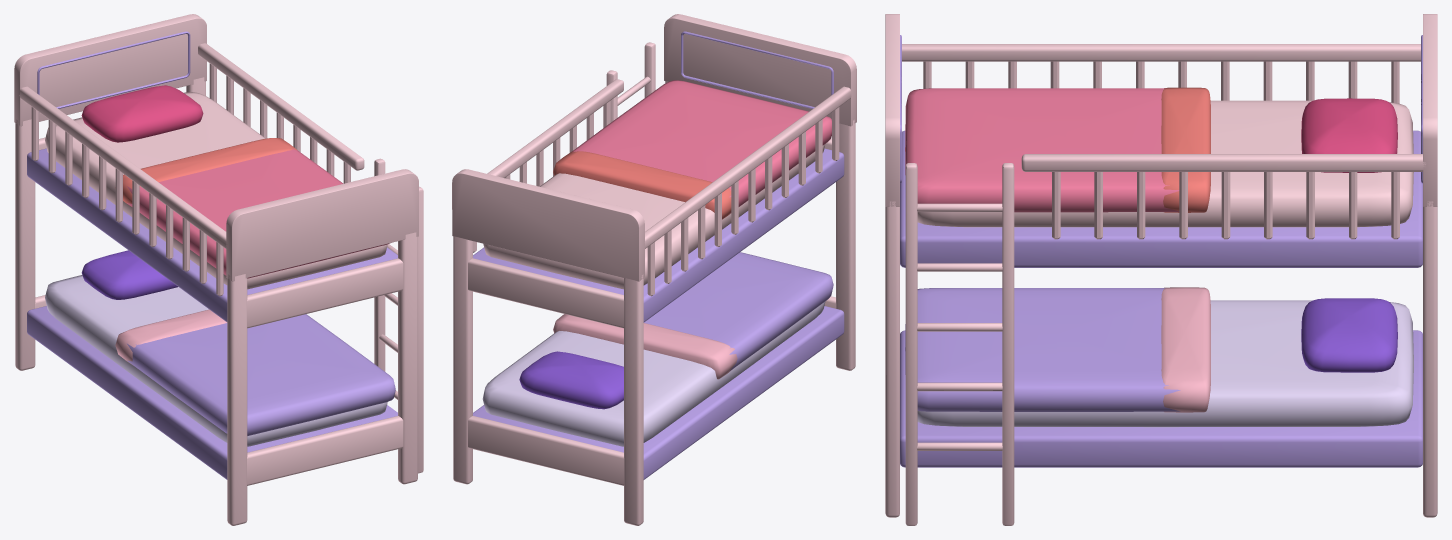
File: beliche_painel_rosa.glb
3 renders of one model, left to right at view 1: azimuth 30°, elevation 25°; view 2: azimuth 150°, elevation 25°; view 3: azimuth 270°, elevation 25°, orthographic. The views are drawn at different scales.
Parts seen in each view (by area): view 1: beliche_painel_rosa; view 2: beliche_painel_rosa; view 3: beliche_painel_rosa.
Part boxes in pixels (<box>): beliche_painel_rosa: <box>14,14,423,525</box>; beliche_painel_rosa: <box>452,14,856,525</box>; beliche_painel_rosa: <box>885,14,1437,525</box>.
Bounding box in the file's own units: 1.09 × 1.62 × 2.06.
Materials: 1 (1 with a texture image).
